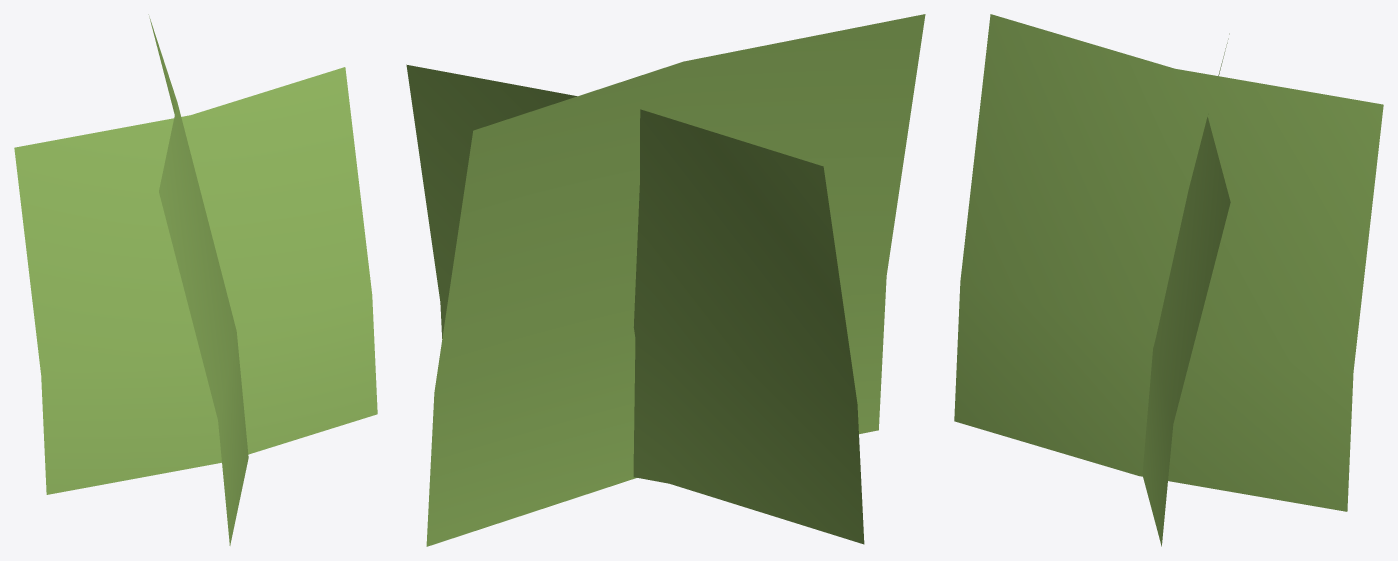
File: GrassPlanes_a_TwoS_04.fbx
3 renders of one model, left to right at view 1: azimuth 30°, elevation 25°; view 2: azimuth 150°, elevation 25°; view 3: azimuth 270°, elevation 25°, orthographic. The views are drawn at different scales.
Parts seen in each view (by area): view 1: GrassPlanes_a_TwoS_04; view 2: GrassPlanes_a_TwoS_04; view 3: GrassPlanes_a_TwoS_04.
Boxes of the visible parts, x1,y1,x2,y2 form: GrassPlanes_a_TwoS_04: (14,14,377,545); GrassPlanes_a_TwoS_04: (406,14,925,546); GrassPlanes_a_TwoS_04: (954,14,1383,546).
Bounding box in the file's own units: 69.25 × 71.18 × 73.06.
